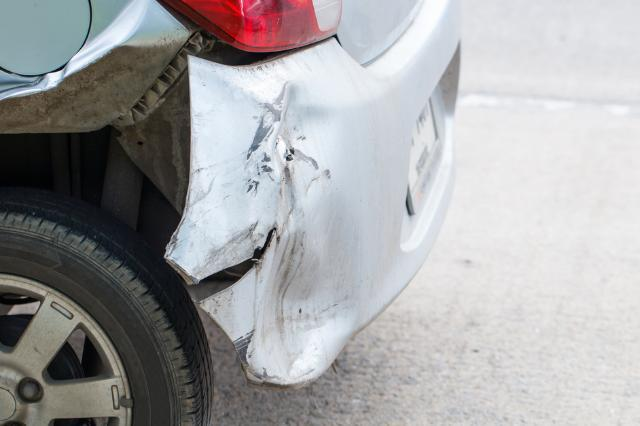Bumper: (179, 63, 393, 380)
